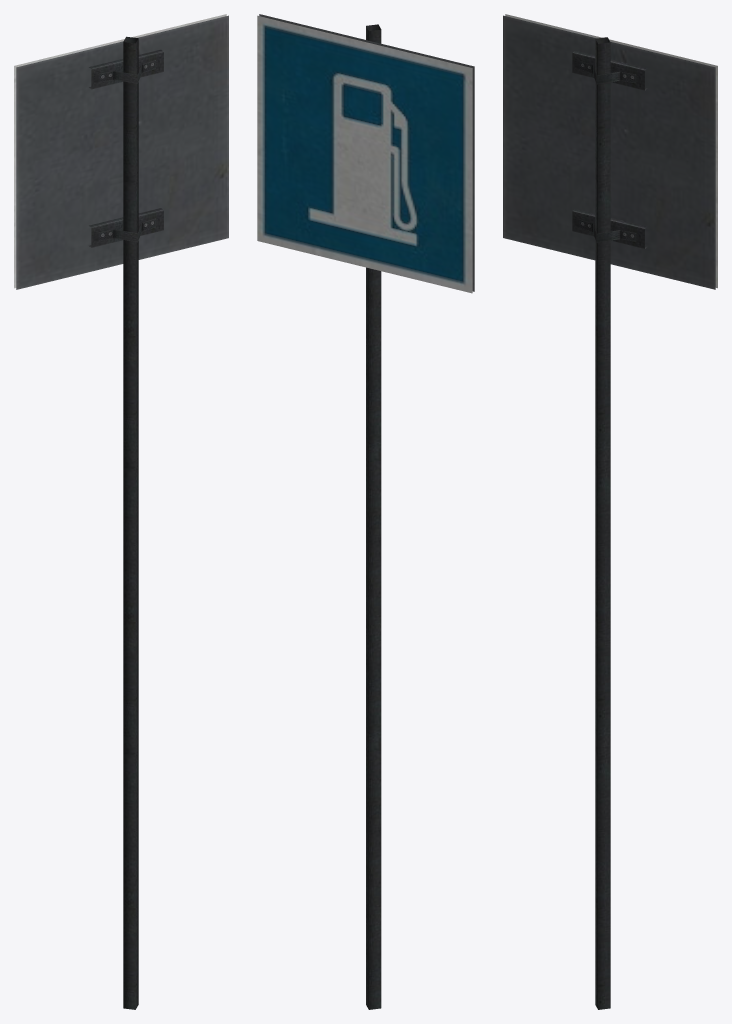
File: Gas.glb
The picture shows the model from 3 angles, left to right: view 1: azimuth 30°, elevation 25°; view 2: azimuth 150°, elevation 25°; view 3: azimuth 330°, elevation 25°; orthographic projection.
Visible parts, largest first — view 1: Gas__LOD1; view 2: Gas__LOD1; view 3: Gas__LOD1.
Part boxes in pixels (x1,y1,x2,y2): Gas__LOD1: (14,14,228,1009); Gas__LOD1: (257,14,474,1009); Gas__LOD1: (503,14,717,1009).
Size of the model in its own units: 0.6891 by 2.99 by 0.0909.
1 material, 1 textured.
